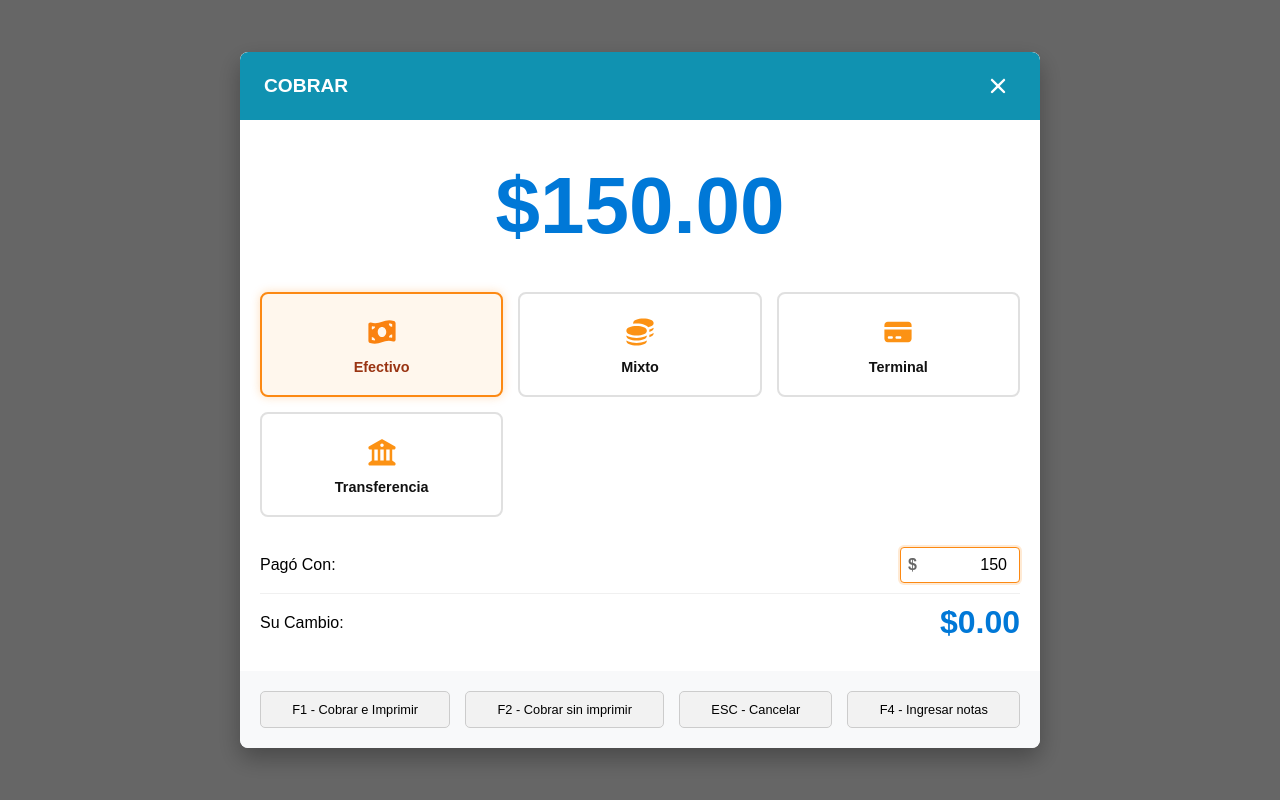
it: PaymentModal: modo de impresion y accesibilidad › oculta el metodo Dolares y el campo mixto en dolares cuando se desactiva acceptUsdPayments
Click the button "Mixto" at (640, 344), box x1=518 y1=292 x2=762 y2=397
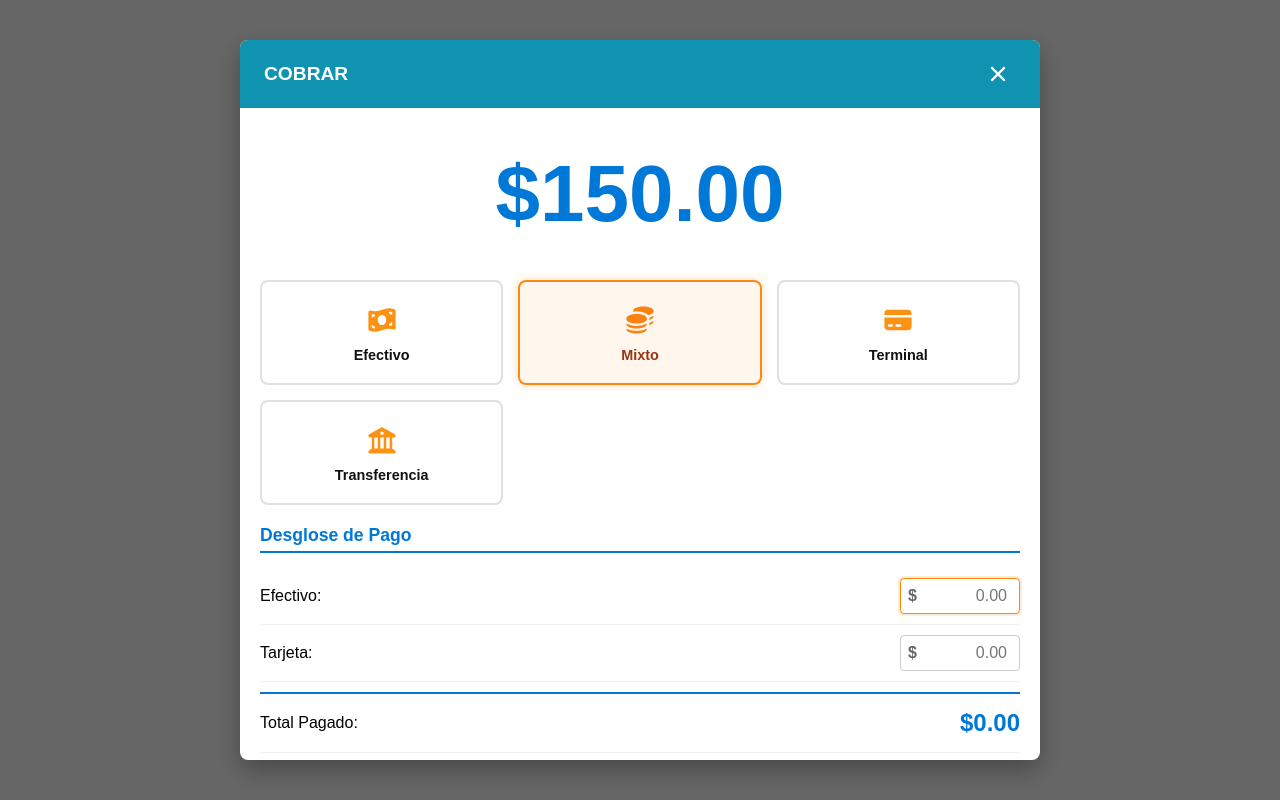
Expected: the field labelled "Efectivo:" is shown, x1=900 y1=578 x2=1020 y2=614
Expected: the field labelled "Tarjeta:" is shown, x1=900 y1=635 x2=1020 y2=671
